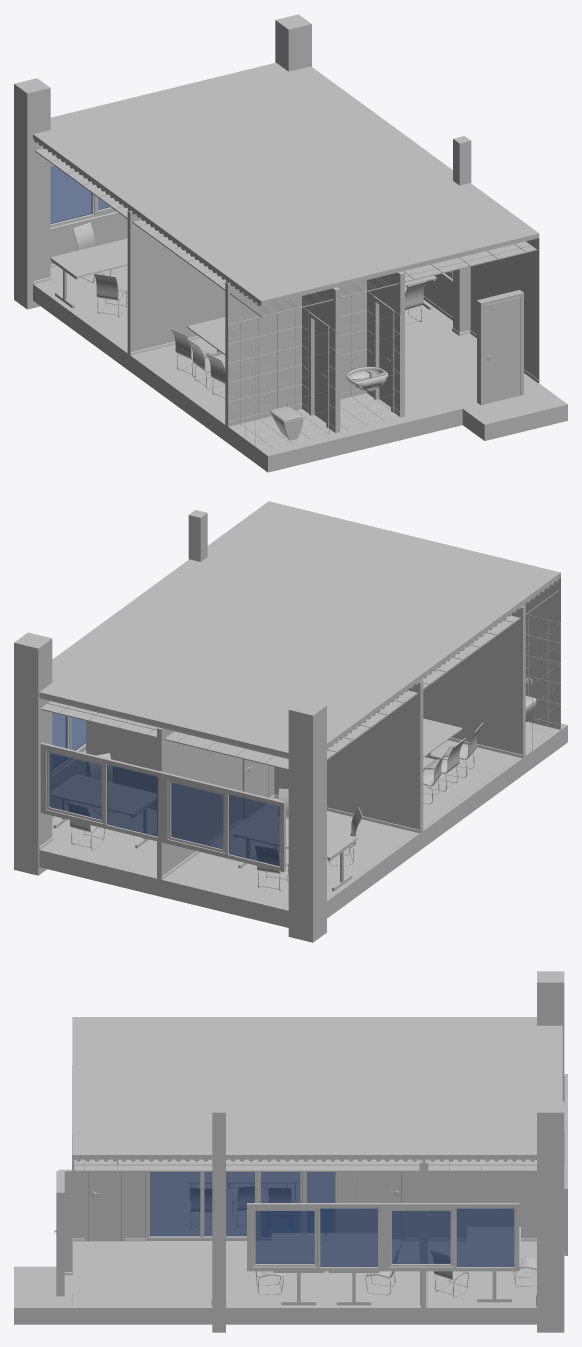
3 renders of one model, top to bottom at view 1: azimuth 30°, elevation 25°; view 2: azimuth 150°, elevation 25°; view 3: azimuth 270°, elevation 25°, orthographic. The views are drawn at different scales.
Visible parts, largest first — view 1: walls.005, furniture.005, ceiling.005; view 2: walls.005, furniture.005, ceiling.005; view 3: walls.005, furniture.005, ceiling.005.
Boxes of the visible parts, x1,y1,x2,y2 form: walls.005: [14, 14, 567, 472]; furniture.005: [50, 222, 436, 440]; ceiling.005: [35, 148, 537, 317]; walls.005: [14, 501, 567, 942]; furniture.005: [52, 678, 536, 891]; ceiling.005: [40, 588, 558, 770]; walls.005: [14, 971, 567, 1332]; furniture.005: [189, 1171, 536, 1305]; ceiling.005: [73, 1159, 536, 1171].
Size of the model in its own units: 6.19 by 4.43 by 10.11.
